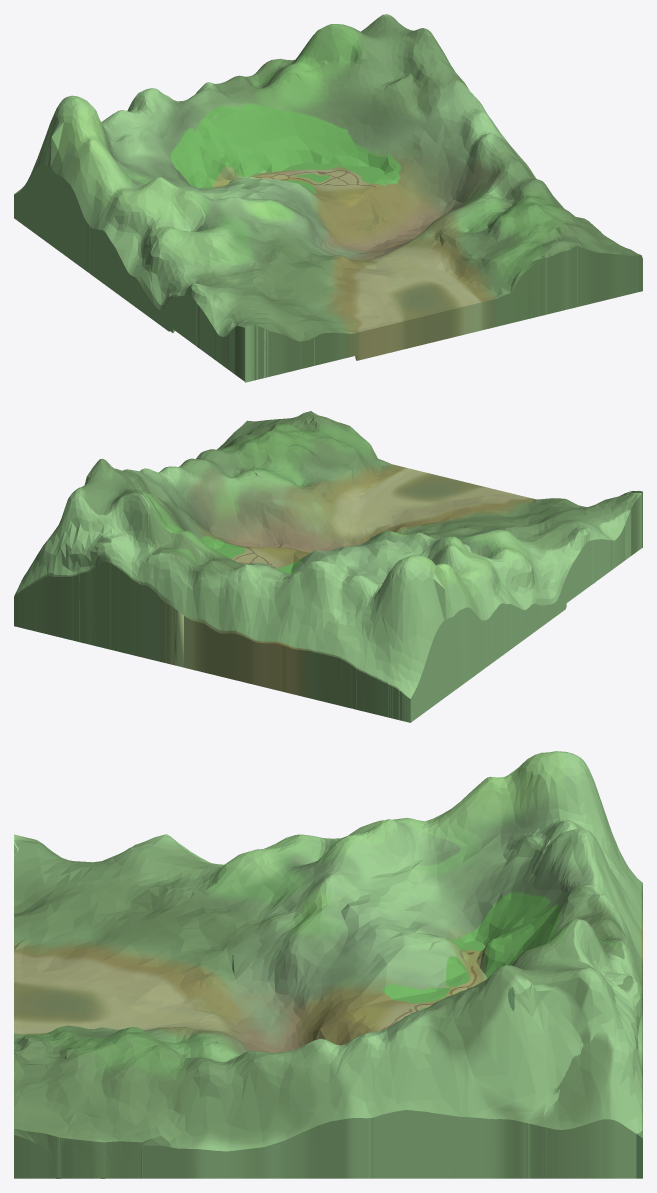
File: Terrain14.fbx
3 renders of one model, top to bottom at view 1: azimuth 30°, elevation 25°; view 2: azimuth 150°, elevation 25°; view 3: azimuth 270°, elevation 25°, orthographic. The views are drawn at different scales.
Parts seen in each view (by area): view 1: 1-2.004, 1-13.004, 1-11.004, 1-6.004, 1-7.004, 1-12.004, 1-5.004, 1-3.004, 1-1.004, 1-8.004, 1-10.004, 1-9.004 (+1 smaller); view 2: 1-1.004, 1-6.004, 1-2.004, 1-11.004, 1-13.004, 1-10.004, 1-7.004, 1-12.004, 1-5.004, 1-3.004, 1-8.004; view 3: 1-6.004, 1-2.004, 1-7.004, 1-11.004, 1-13.004, 1-3.004, 1-12.004, 1-1.004, 1-4.004, 1-10.004, 1-8.004, 1-5.004 (+1 smaller).
Part boxes in pixels (left/top/right/bottom): 1-2.004: left=64, top=89, right=354, bottom=332; 1-13.004: left=369, top=189, right=642, bottom=324; 1-11.004: left=168, top=255, right=392, bottom=382; 1-6.004: left=310, top=14, right=485, bottom=168; 1-7.004: left=380, top=98, right=593, bottom=225; 1-12.004: left=355, top=259, right=503, bottom=360; 1-5.004: left=189, top=33, right=326, bottom=172; 1-3.004: left=141, top=104, right=297, bottom=193; 1-1.004: left=14, top=78, right=232, bottom=254; 1-8.004: left=264, top=155, right=393, bottom=220; 1-10.004: left=284, top=190, right=474, bottom=260; 1-9.004: left=286, top=180, right=421, bottom=230; 1-1.004: left=132, top=558, right=460, bottom=722; 1-6.004: left=14, top=458, right=203, bottom=654; 1-2.004: left=273, top=523, right=566, bottom=686; 1-11.004: left=369, top=490, right=642, bottom=603; 1-13.004: left=217, top=411, right=384, bottom=535; 1-10.004: left=208, top=488, right=370, bottom=552; 1-7.004: left=139, top=448, right=270, bottom=549; 1-12.004: left=360, top=455, right=530, bottom=527; 1-5.004: left=132, top=506, right=281, bottom=575; 1-3.004: left=290, top=546, right=399, bottom=583; 1-8.004: left=214, top=543, right=310, bottom=573; 1-6.004: left=383, top=918, right=642, bottom=1178; 1-2.004: left=176, top=751, right=585, bottom=1029; 1-7.004: left=134, top=1021, right=399, bottom=1178; 1-11.004: left=14, top=834, right=260, bottom=1019; 1-13.004: left=14, top=1009, right=227, bottom=1178; 1-3.004: left=364, top=860, right=569, bottom=998; 1-12.004: left=14, top=951, right=196, bottom=1034; 1-1.004: left=560, top=751, right=642, bottom=995; 1-4.004: left=415, top=902, right=512, bottom=986; 1-10.004: left=210, top=945, right=371, bottom=1053; 1-8.004: left=320, top=964, right=470, bottom=1045; 1-5.004: left=532, top=886, right=635, bottom=979.
Bounding box in the file's own units: 39952 × 13498 × 40309.
